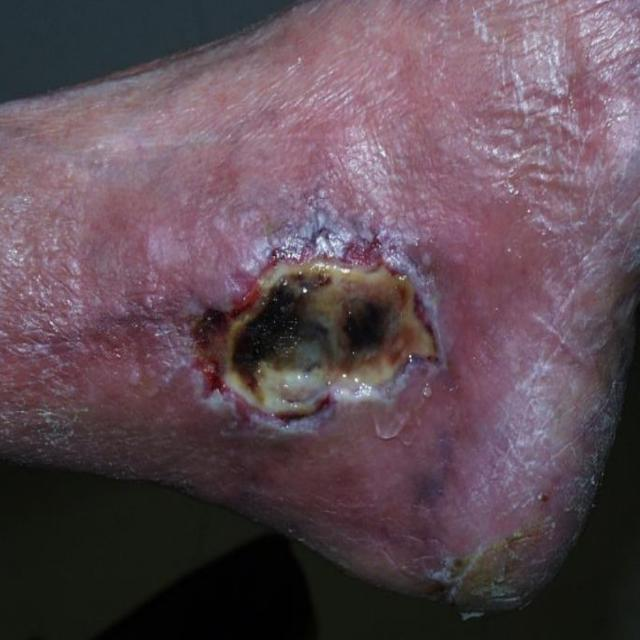Unstageable: (196, 259, 439, 418)
